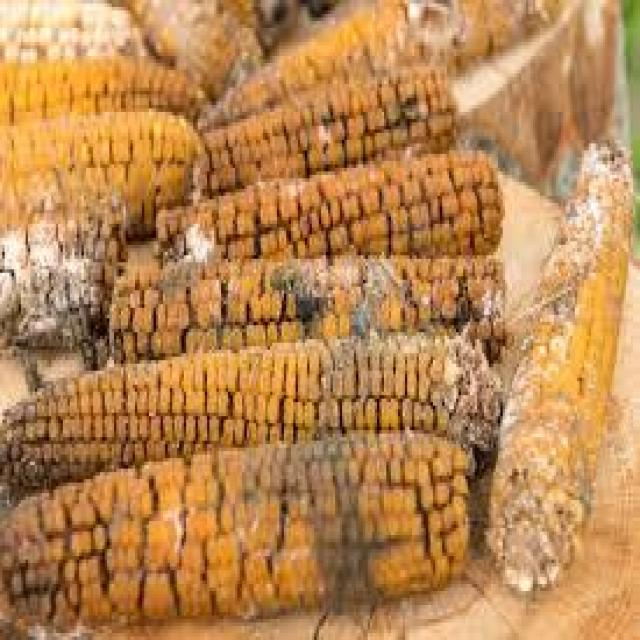food_waste: (11, 0, 590, 602)
